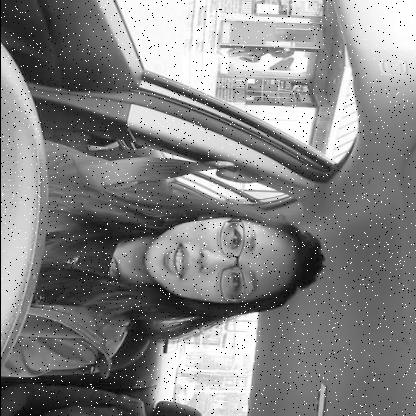seatbelt: (0, 146, 340, 345)
